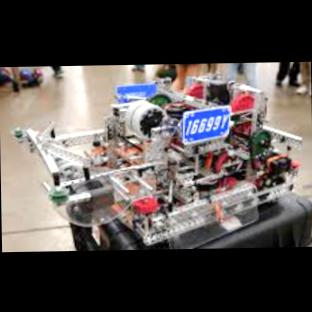Robot: (13, 73, 301, 248)
